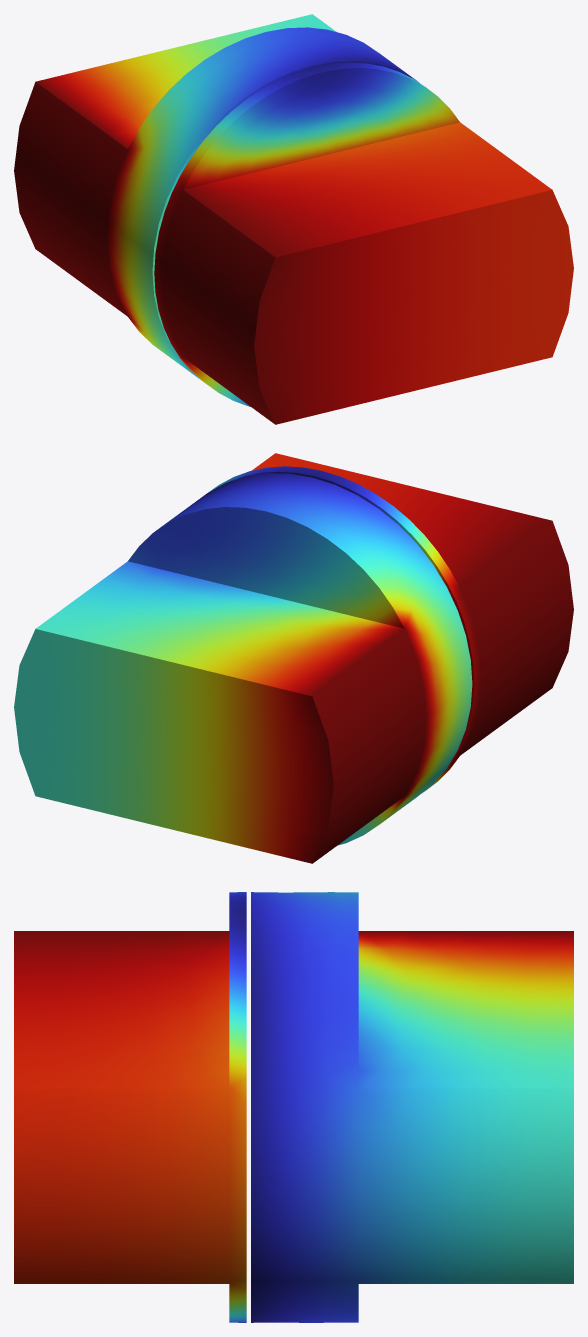
The model's file is PilaH2-O2_mh2-2.70_V-0.7.glb.
3 renders of one model, top to bottom at view 1: azimuth 30°, elevation 25°; view 2: azimuth 150°, elevation 25°; view 3: azimuth 270°, elevation 25°, orthographic. The views are drawn at different scales.
Size of the model in its own units: 0.001 by 0.001 by 0.0013.
2 materials, 2 textured.
